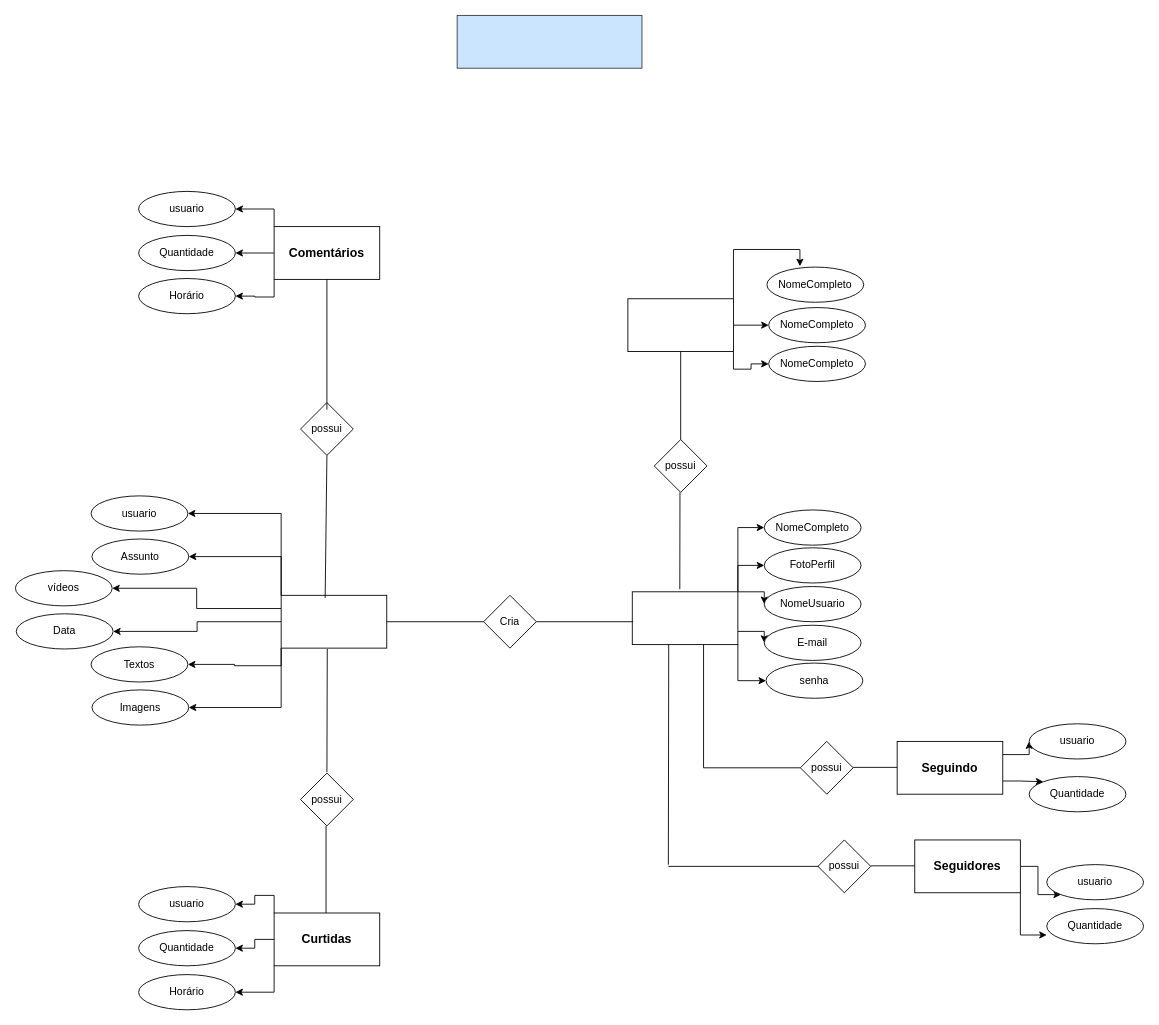
Image size: 1159x1025. Some labels were removed from this diagram. Each missing label, with the box of its shape:
DevConect: (456, 15, 642, 68)
Postagem: (280, 594, 387, 648)
Site: (627, 298, 733, 352)
Usuário: (631, 591, 738, 645)
